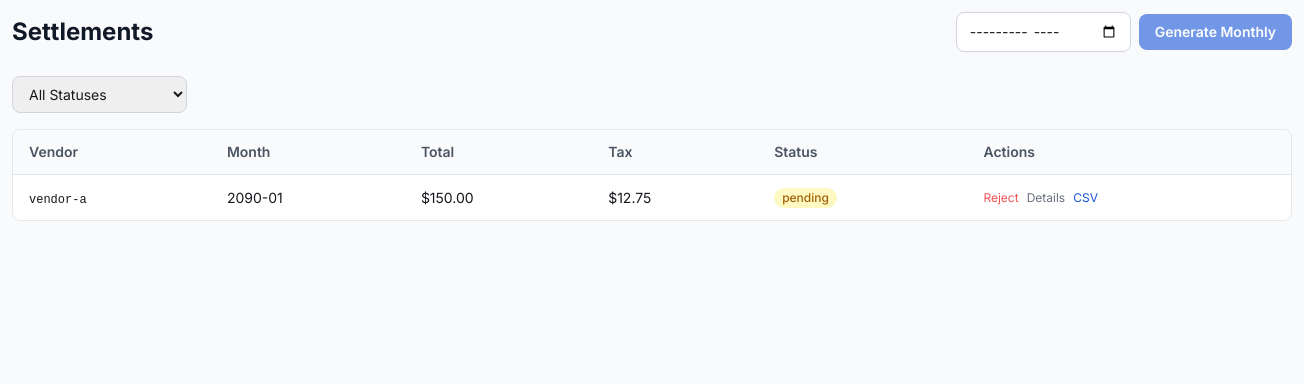
Test case: AdminSettlements — details panel › shows variance reconciliation panel when Details is clicked
Click the button "Details": (1046, 198) [1027,190,1065,206]
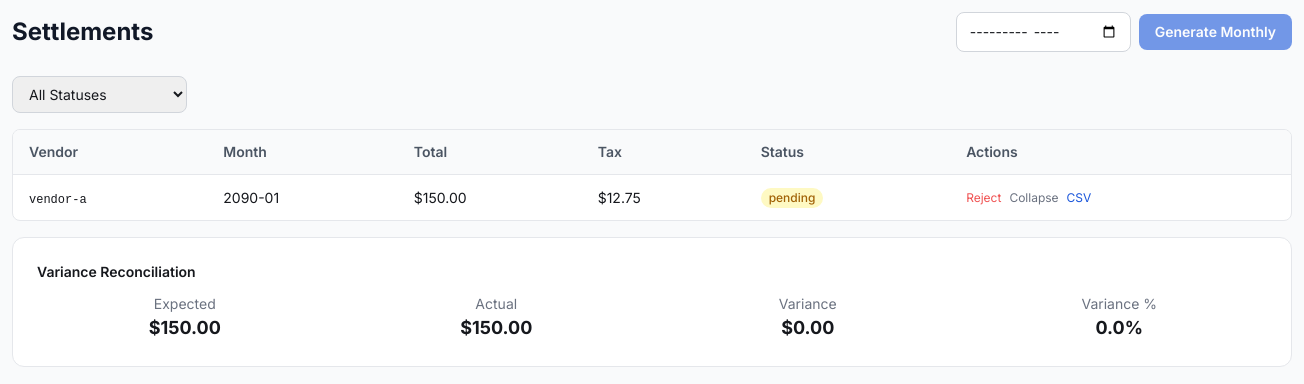
Expected: the heading "Variance Reconciliation" is shown, [37,263,196,280]
